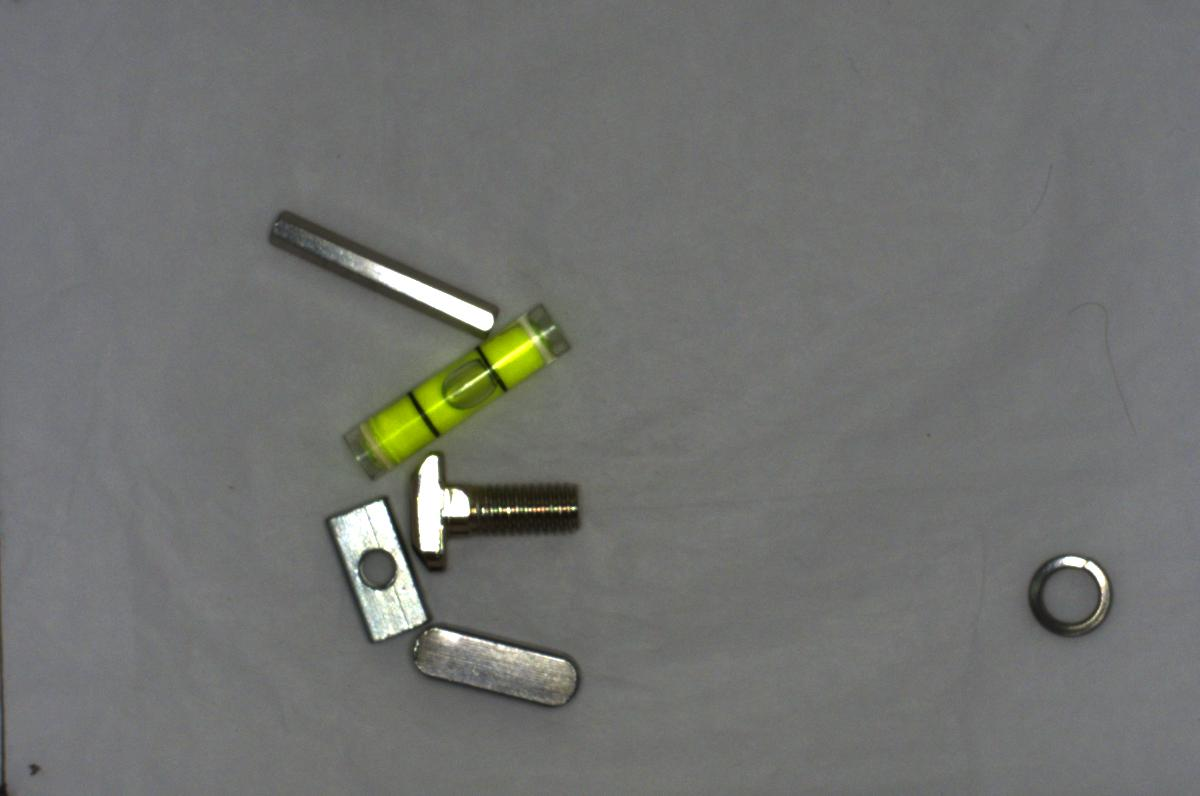Double hexagonal column: (259, 209, 498, 341)
Horizontal bubble: (339, 296, 566, 482)
Keybar: (410, 619, 582, 714)
Rectangular nut: (324, 495, 432, 652)
Spring washer: (1022, 540, 1115, 640)
T-shaped screw: (407, 449, 592, 573)
